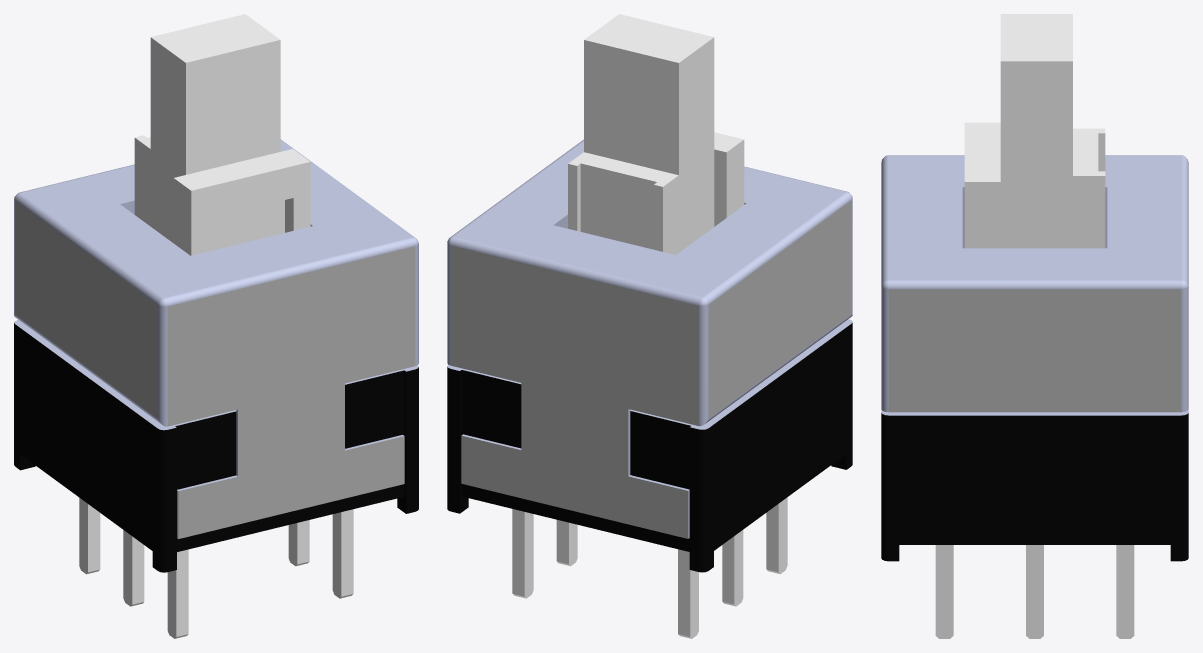
The model's file is Switch_6pin.obj.
3 renders of one model, left to right at view 1: azimuth 30°, elevation 25°; view 2: azimuth 150°, elevation 25°; view 3: azimuth 270°, elevation 25°, orthographic. The views are drawn at different scales.
Parts seen in each view (by area): view 1: Solid1; view 2: Solid1; view 3: Solid1.
Part boxes in pixels (bbox=[...]): Solid1: bbox=[14, 14, 418, 638]; Solid1: bbox=[447, 14, 852, 638]; Solid1: bbox=[881, 14, 1188, 638].
Bounding box in the file's own units: 8.5 × 17 × 8.5.
